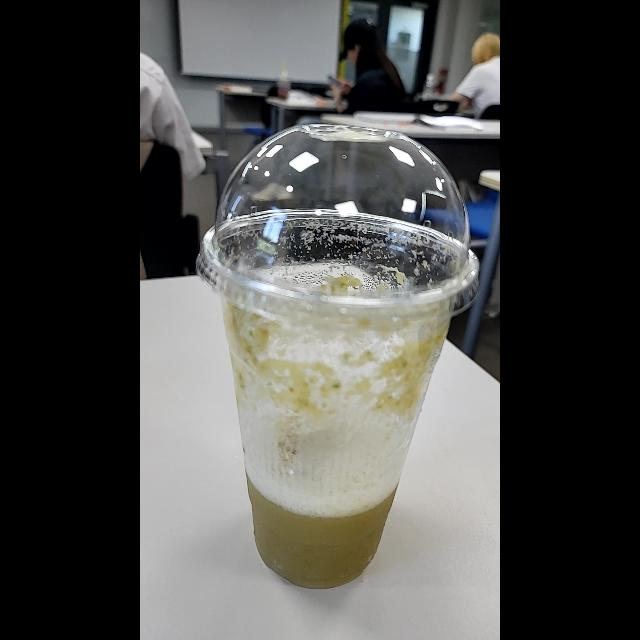plastic_cup: (199, 121, 481, 594)
plastic_cup_lid: (199, 121, 486, 327)
